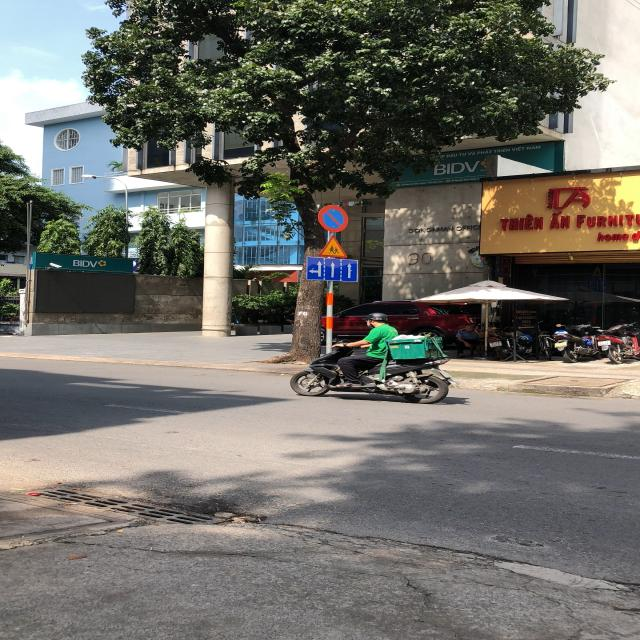Bien bao cam do xe: (314, 200, 352, 234)
Bien bao tre em: (314, 235, 346, 258)
